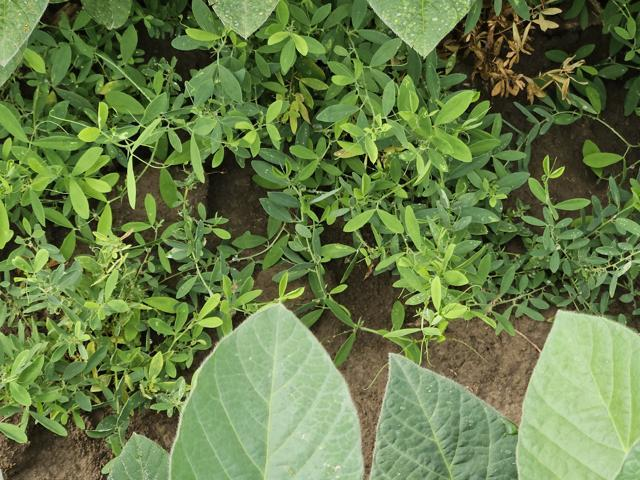bad weed: (3, 16, 640, 398)
